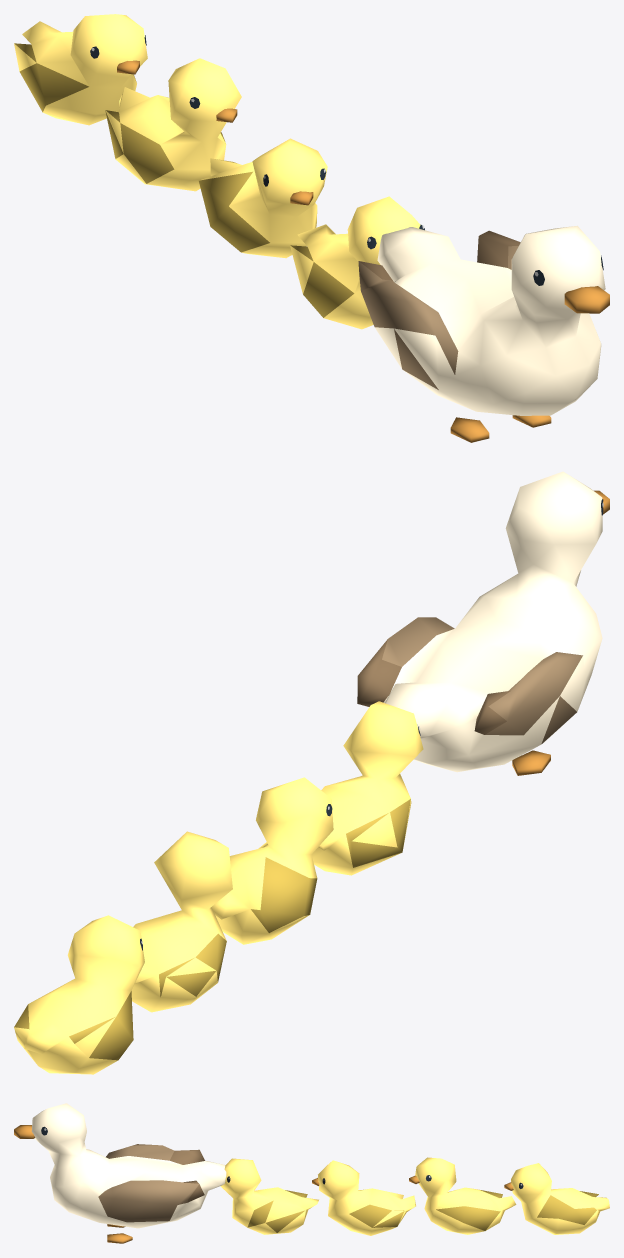
File: duck-family.glb
The picture shows the model from 3 angles, top to bottom: view 1: azimuth 30°, elevation 25°; view 2: azimuth 150°, elevation 25°; view 3: azimuth 270°, elevation 25°; orthographic projection. The views are drawn at different scales.
Parts seen in each view (by area): view 1: duck-family; view 2: duck-family; view 3: duck-family.
Part boxes in pixels (left/top/right/bottom): duck-family: left=14, top=14, right=609, bottom=442; duck-family: left=14, top=471, right=609, bottom=1074; duck-family: left=14, top=1103, right=609, bottom=1243.
Size of the model in its own units: 0.7538 by 1.03 by 4.42.
